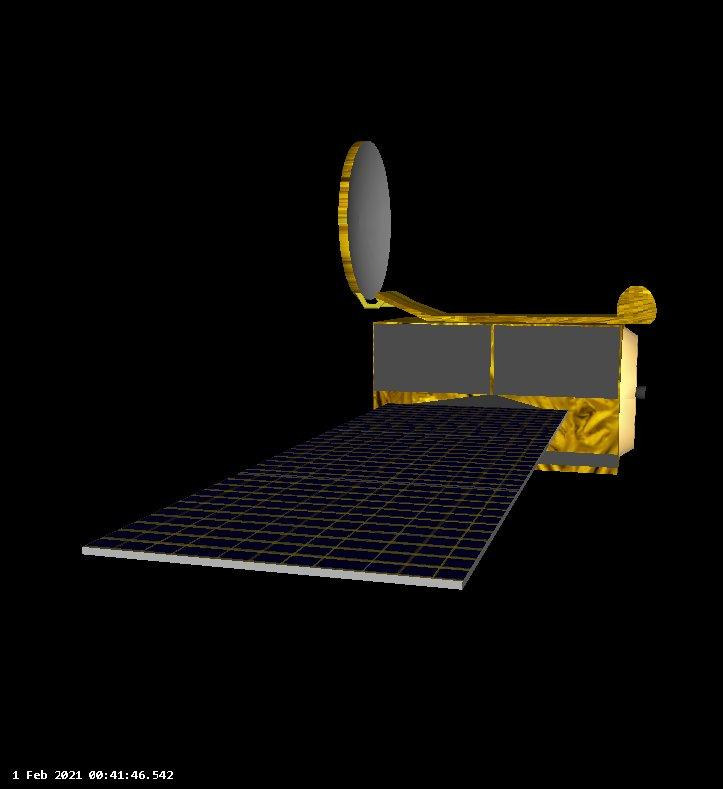antenna: (336, 138, 393, 302)
body: (369, 313, 640, 478)
solar: (79, 401, 570, 593)
thruster: (633, 385, 650, 402)
